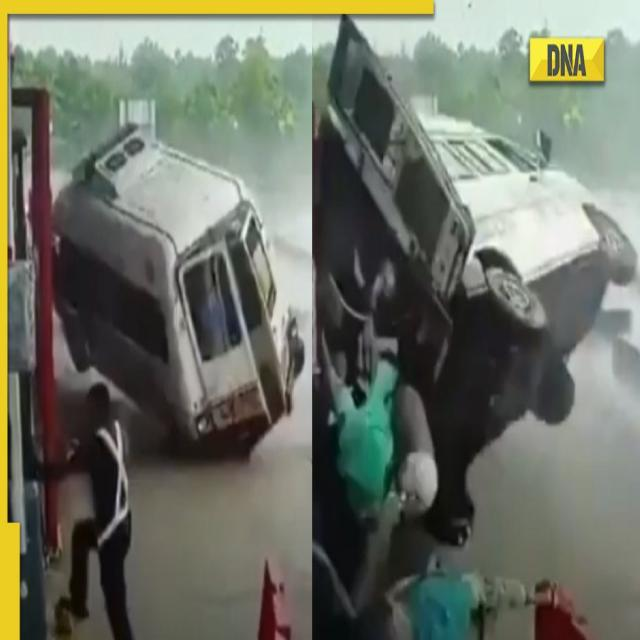accident: (312, 18, 636, 638), (55, 122, 304, 444)
